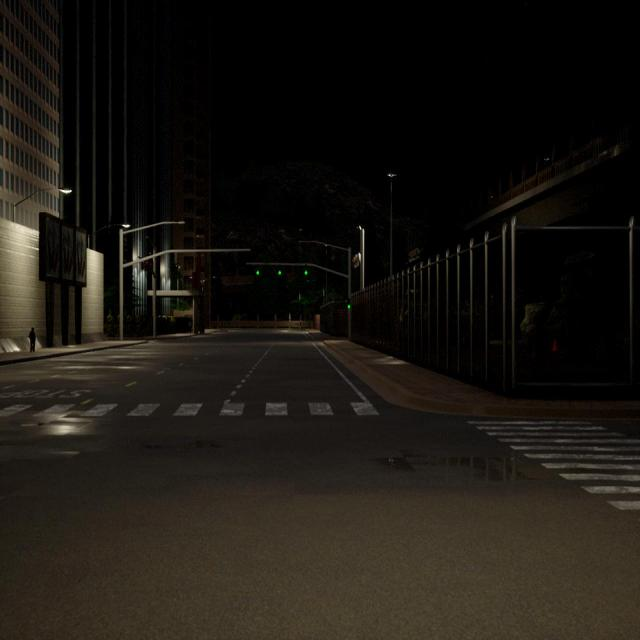Pedestrian: (28, 327, 36, 353)
traffic_light: (346, 298, 351, 310), (256, 264, 260, 276), (304, 264, 308, 276), (278, 265, 282, 276), (145, 261, 148, 271), (358, 253, 360, 266), (355, 255, 357, 268), (141, 262, 144, 270), (352, 257, 354, 268), (150, 262, 152, 270)
